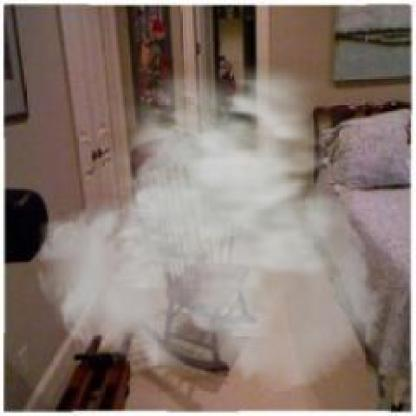Smoke: (33, 48, 386, 394)
